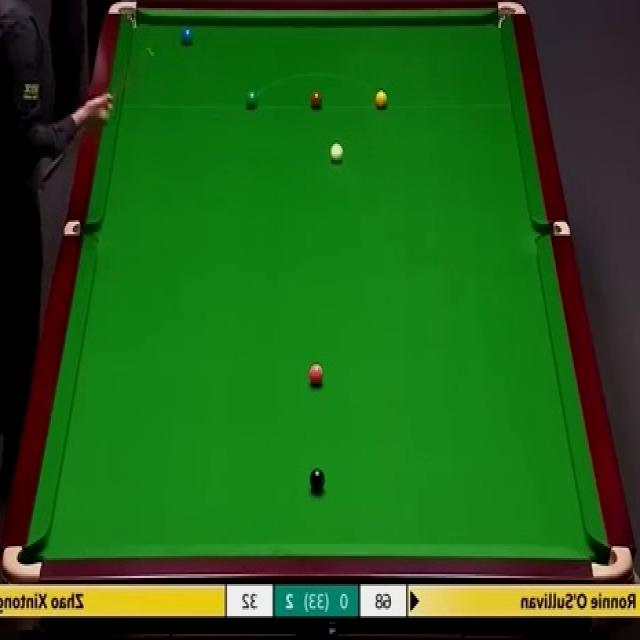black-ball: (309, 467, 325, 493)
blue-ball: (181, 27, 193, 43)
brown-ball: (310, 92, 323, 109)
green-ball: (244, 88, 258, 112)
pink-ball: (308, 362, 324, 389)
white-ball: (328, 142, 344, 163)
yellow-ball: (374, 89, 388, 110)
